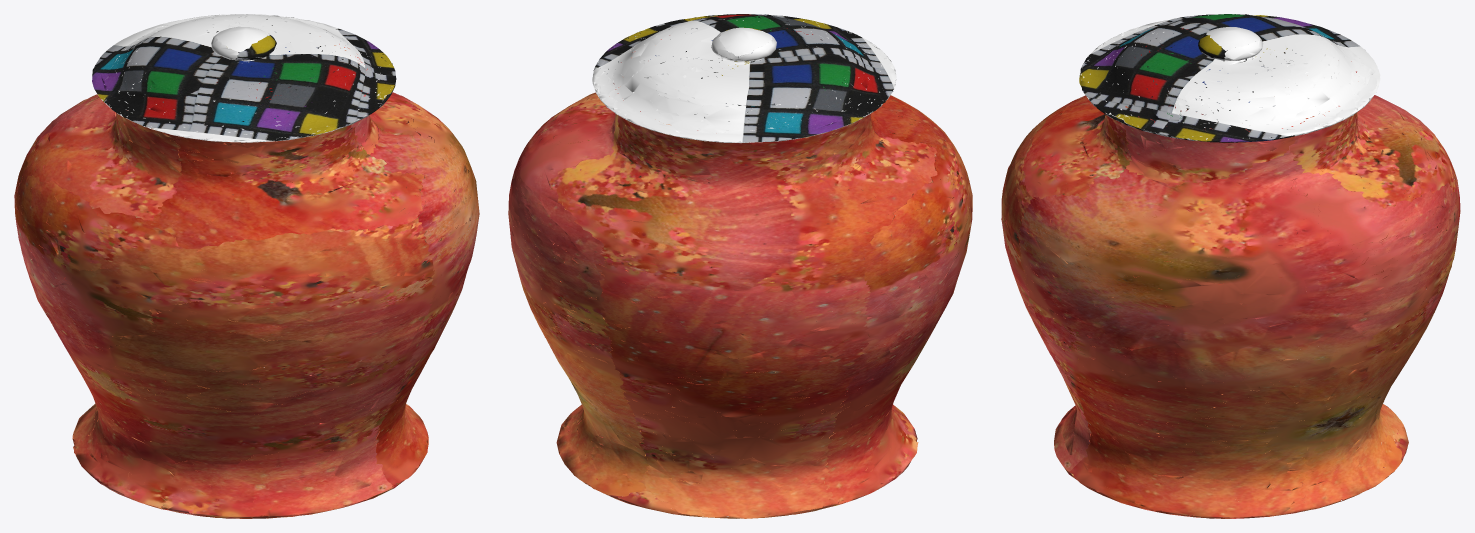
Rendered from Mod1.fbx.
3 views of the same model, side by side, from view 1: azimuth 30°, elevation 25°; view 2: azimuth 150°, elevation 25°; view 3: azimuth 270°, elevation 25° (orthographic).
Visible parts, largest first — view 1: Object_5; view 2: Object_5; view 3: Object_5.
Part boxes in pixels (x1=…): Object_5: x1=14, y1=14, x2=479, y2=518; Object_5: x1=508, y1=14, x2=972, y2=518; Object_5: x1=1001, y1=14, x2=1460, y2=518.
Bounding box in the file's own units: 20 × 20 × 20.
